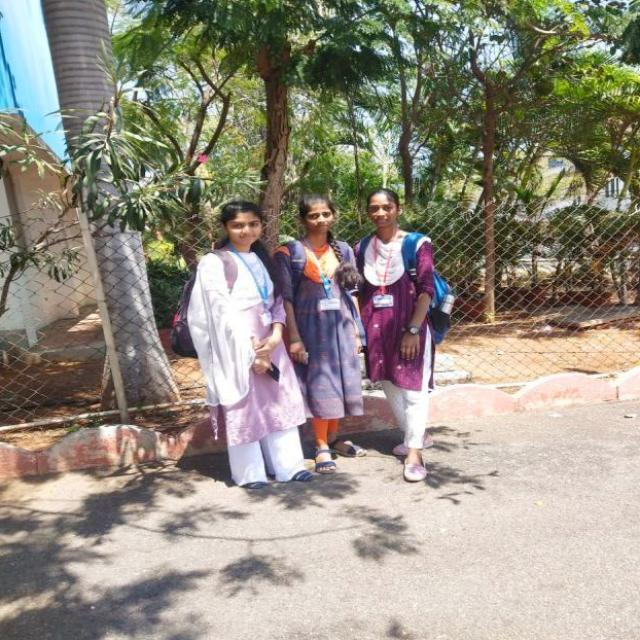ID_card: (238, 251, 277, 322), (309, 240, 342, 314), (367, 242, 402, 308)
